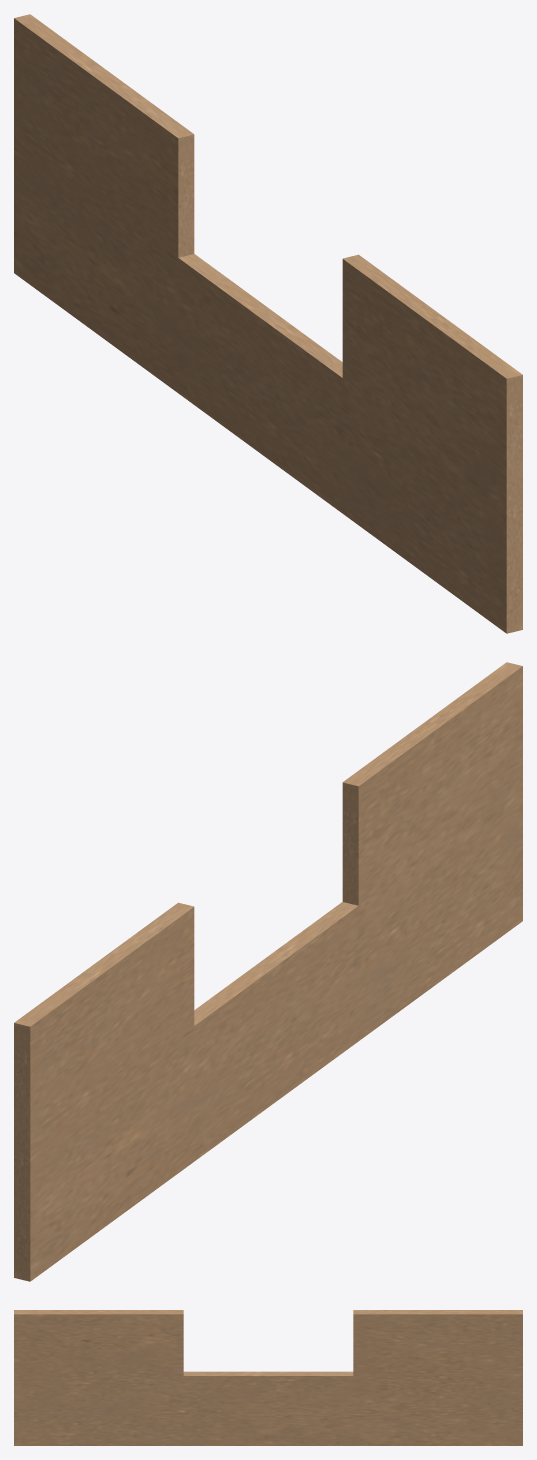
The model's file is WindowWall.fbx.
3 renders of one model, top to bottom at view 1: azimuth 30°, elevation 25°; view 2: azimuth 150°, elevation 25°; view 3: azimuth 270°, elevation 25°, orthographic. The views are drawn at different scales.
Parts seen in each view (by area): view 1: Wall; view 2: Wall; view 3: Wall.
Boxes of the visible parts, x1=… form: Wall: x1=14, y1=14, x2=522, y2=633; Wall: x1=14, y1=662, x2=522, y2=1281; Wall: x1=14, y1=1310, x2=522, y2=1445.
Size of the model in its own units: 20 by 300 by 1051.
